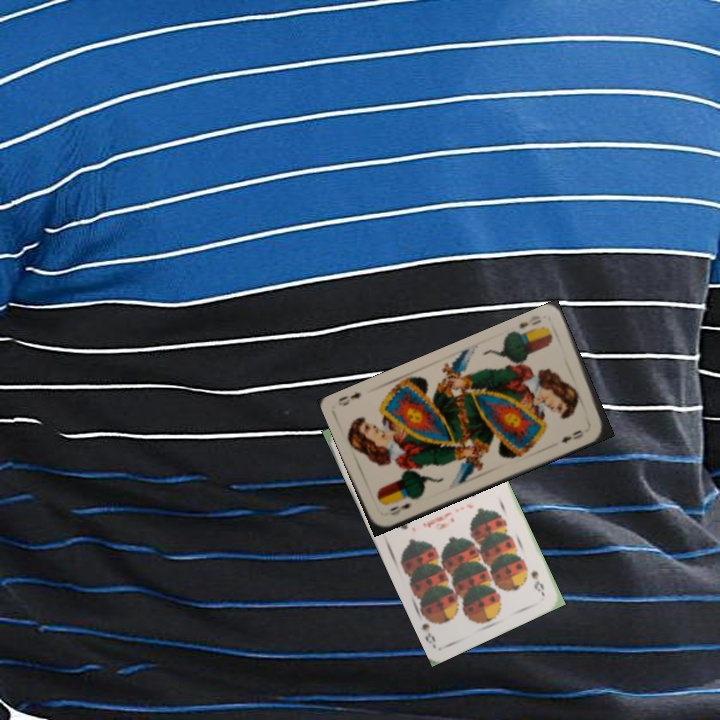EO: (515, 311, 544, 331), (385, 499, 413, 518)
S9: (527, 566, 547, 597)
